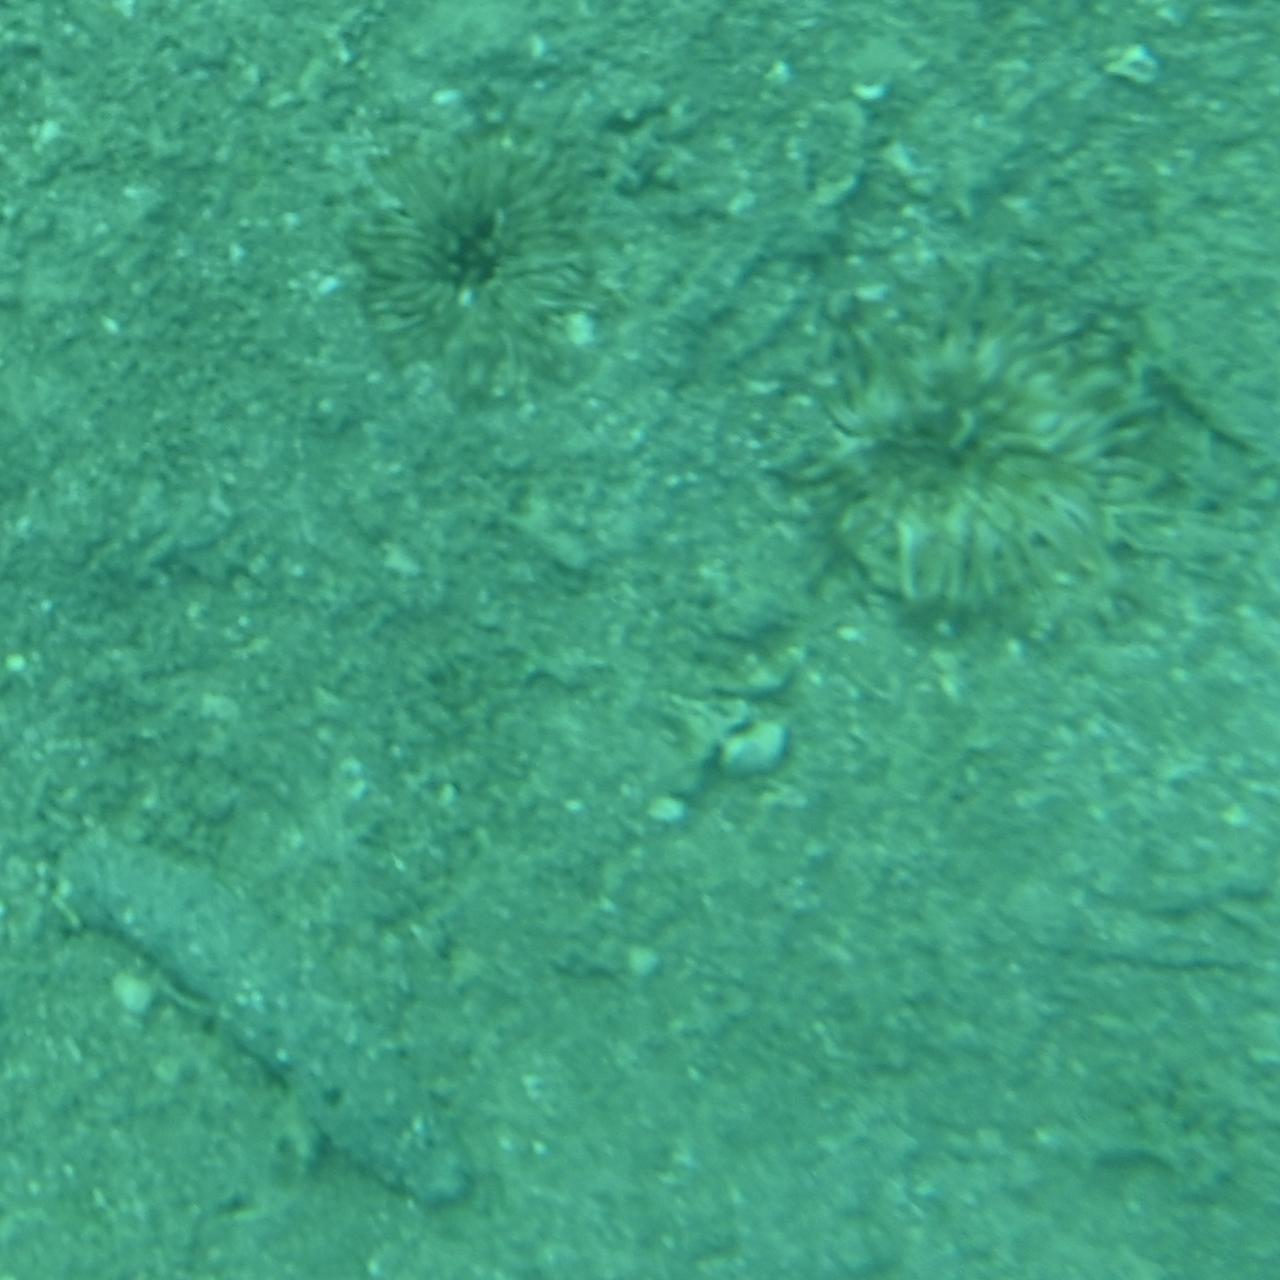Condylactis aurantiaca: (816, 278, 1203, 692), (297, 134, 655, 390)
Holothuria tubulosa: (48, 803, 496, 1235)
